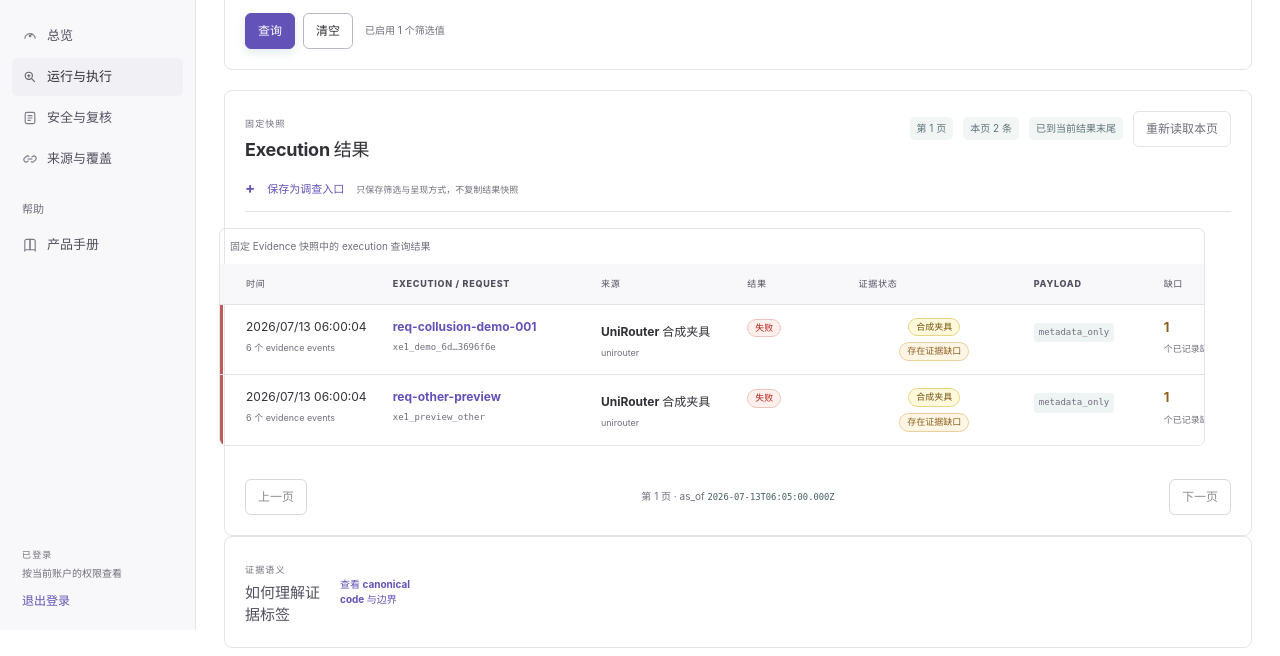
Test: PRD2 investigation UI › ignores a late preview response after another request is selected
The width and height of the screenshot is (1280, 656).
(page scrolled)
Click the button "req-collusion-demo-001" at (465, 327), box [393,318,536,336]
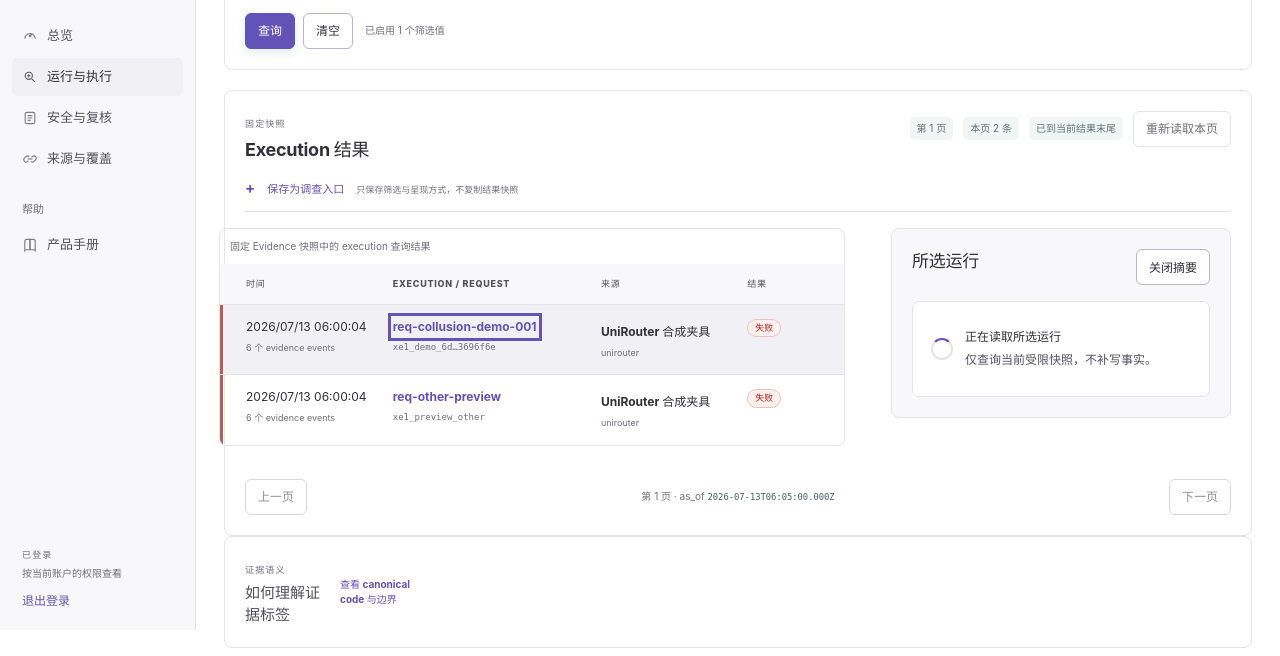
Check: the text "正在读取所选运行" is shown, box [965,329,1061,344]
Click the button "req-other-preview" at (447, 397), box [393,388,501,406]
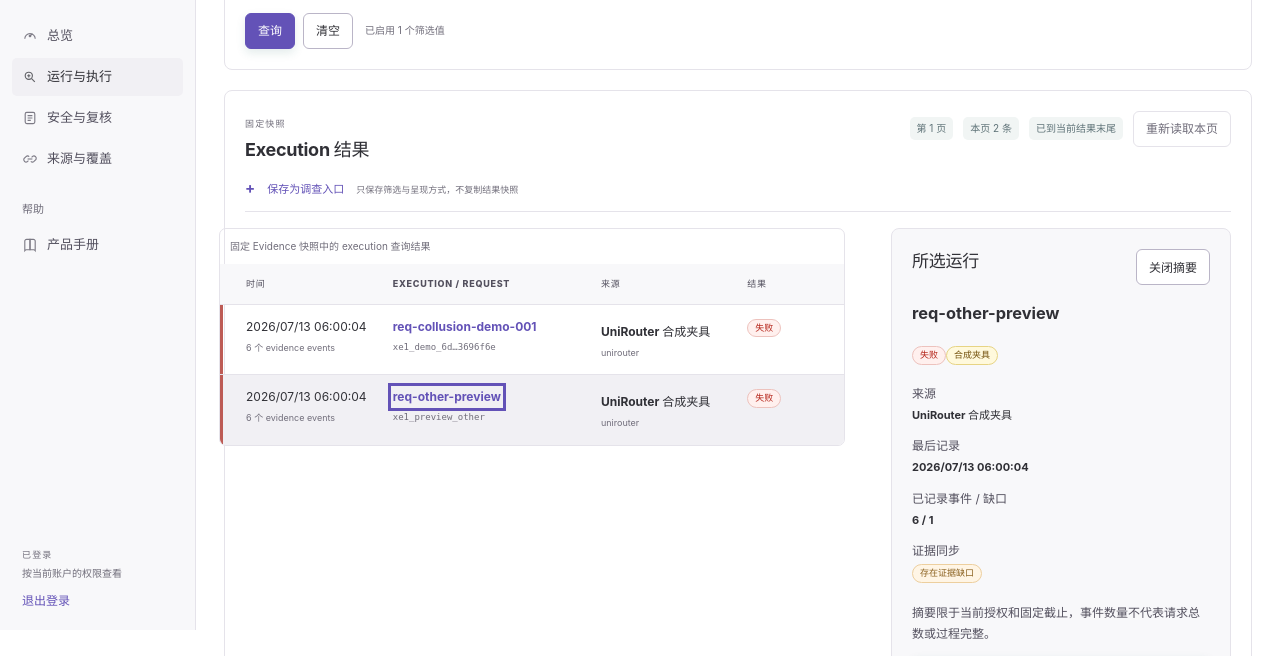
Check: the text "xe1_preview_other" is shown, box [393,412,485,422]
Check: the heading "req-other-preview" is shown, box [912,303,1059,323]
